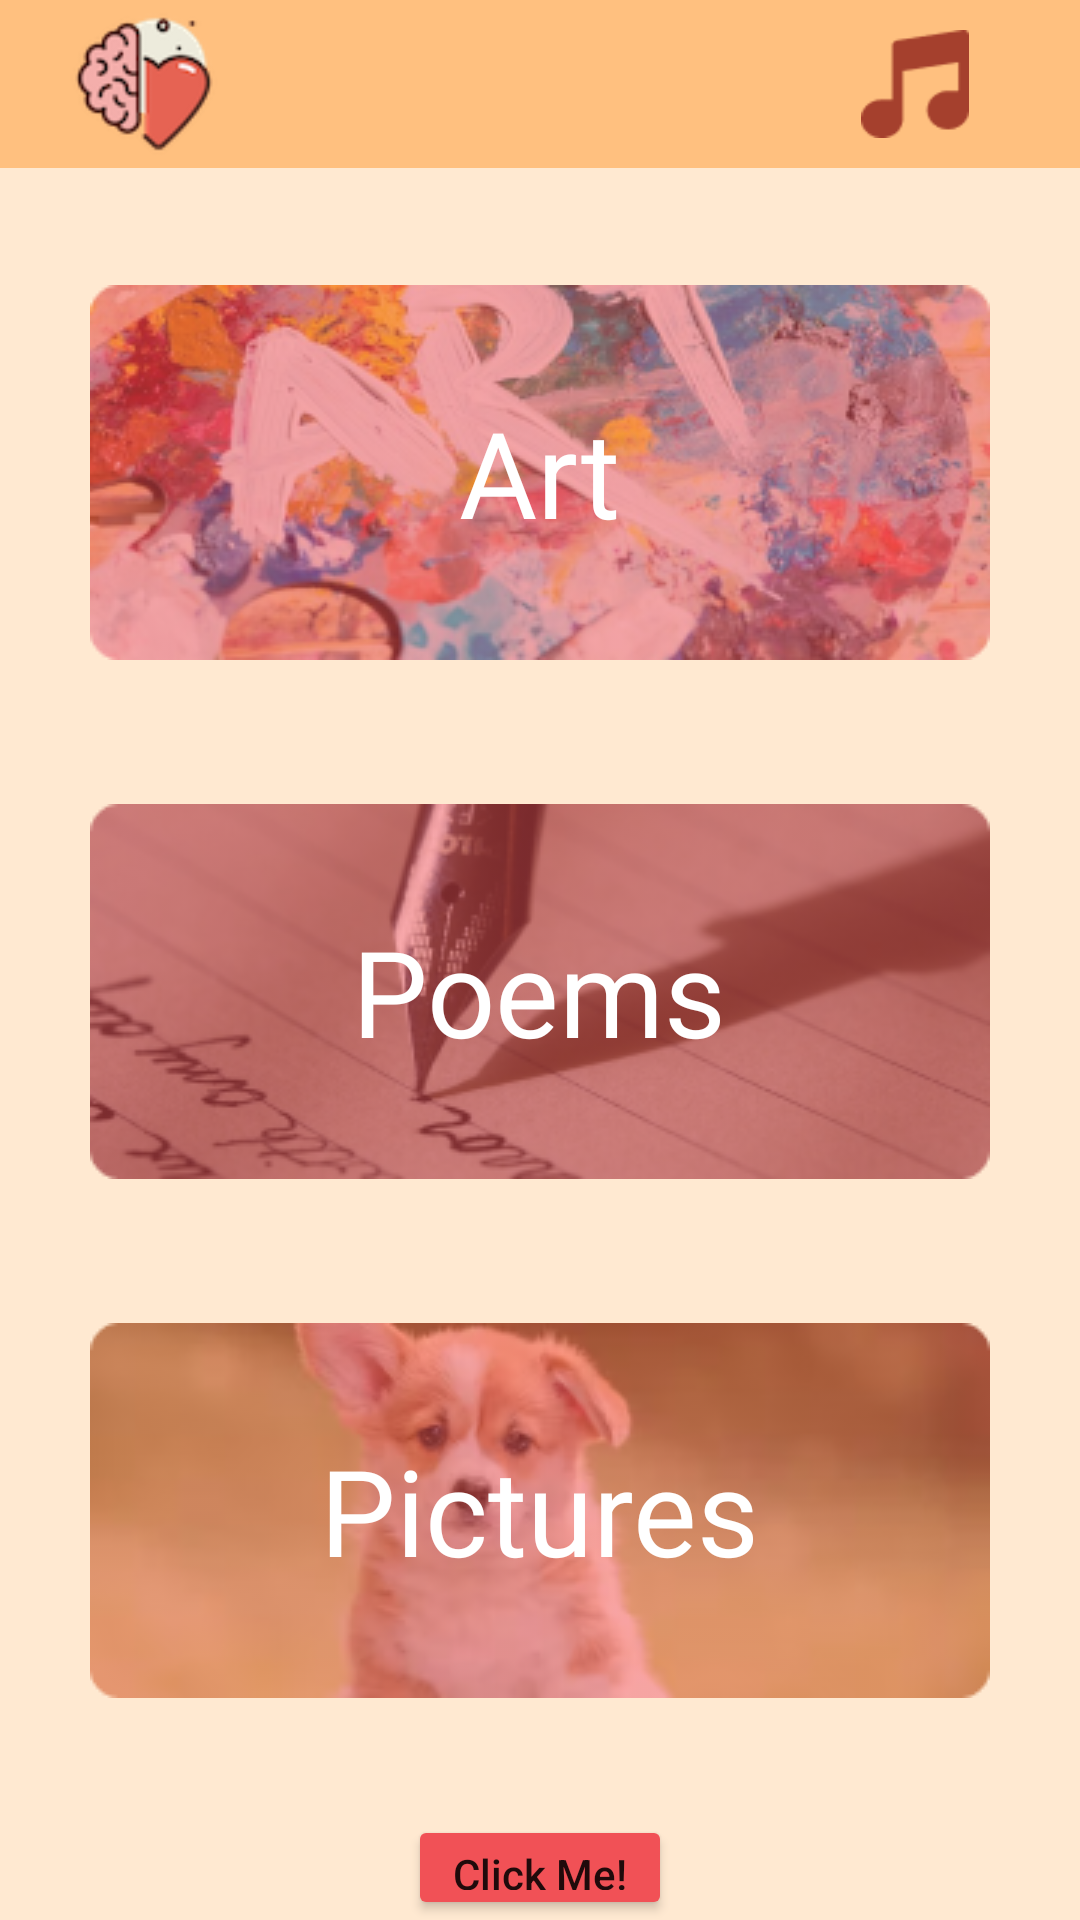

Point at icon controls on the screen. Image size 1080×1920, points as (x,y).
music: (915,84)
